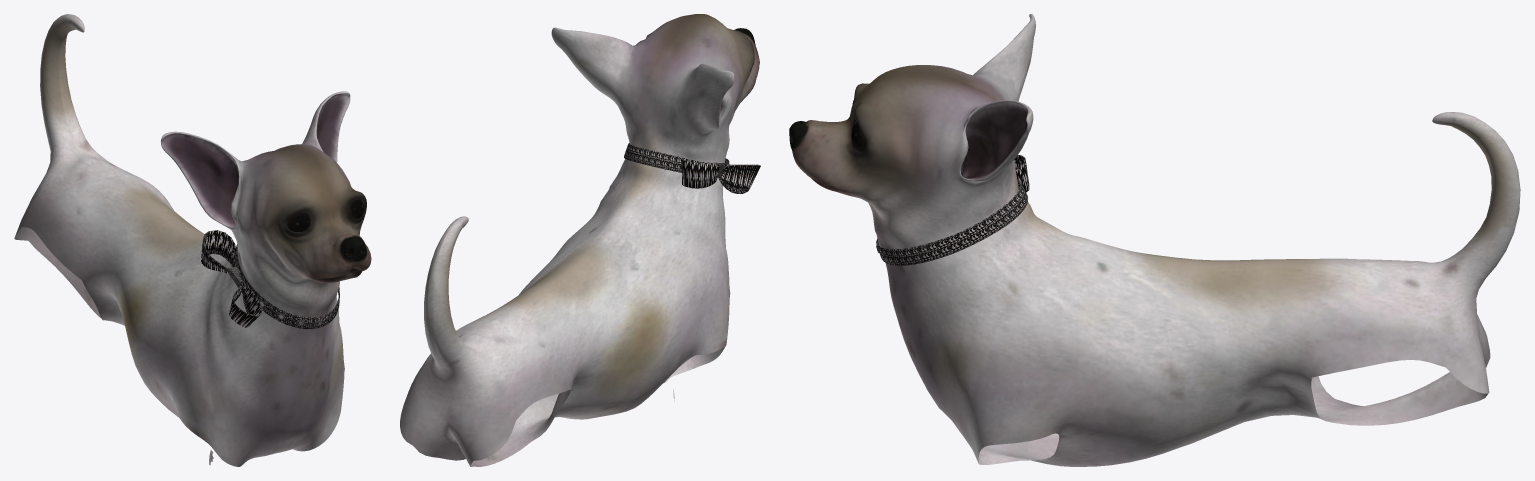
File: torso.obj
The picture shows the model from 3 angles, left to right: view 1: azimuth 30°, elevation 25°; view 2: azimuth 150°, elevation 25°; view 3: azimuth 270°, elevation 25°; orthographic projection. The views are drawn at different scales.
Visible parts, largest first — view 1: polySurface25 polySurface19 polySurface13 polySurface7 dog:dog; view 2: polySurface25 polySurface19 polySurface13 polySurface7 dog:dog; view 3: polySurface25 polySurface19 polySurface13 polySurface7 dog:dog.
Boxes of the visible parts, x1,y1,x2,y2 form: polySurface25 polySurface19 polySurface13 polySurface7 dog:dog: [14, 14, 371, 466]; polySurface25 polySurface19 polySurface13 polySurface7 dog:dog: [400, 14, 760, 466]; polySurface25 polySurface19 polySurface13 polySurface7 dog:dog: [789, 14, 1520, 466].
Bounding box in the file's own units: 0.9575 × 1.69 × 2.8.
Materials: 1 (1 with a texture image).
